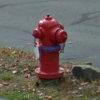Hydrant: (25, 9, 72, 85)
